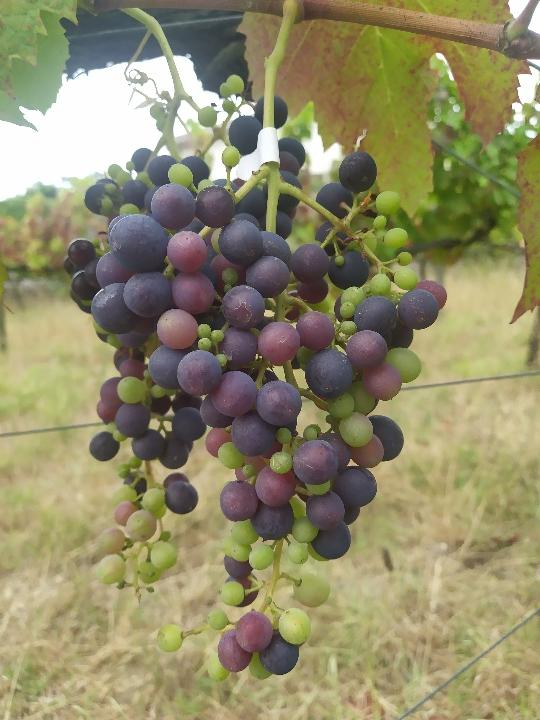grape: (90, 94, 446, 684)
